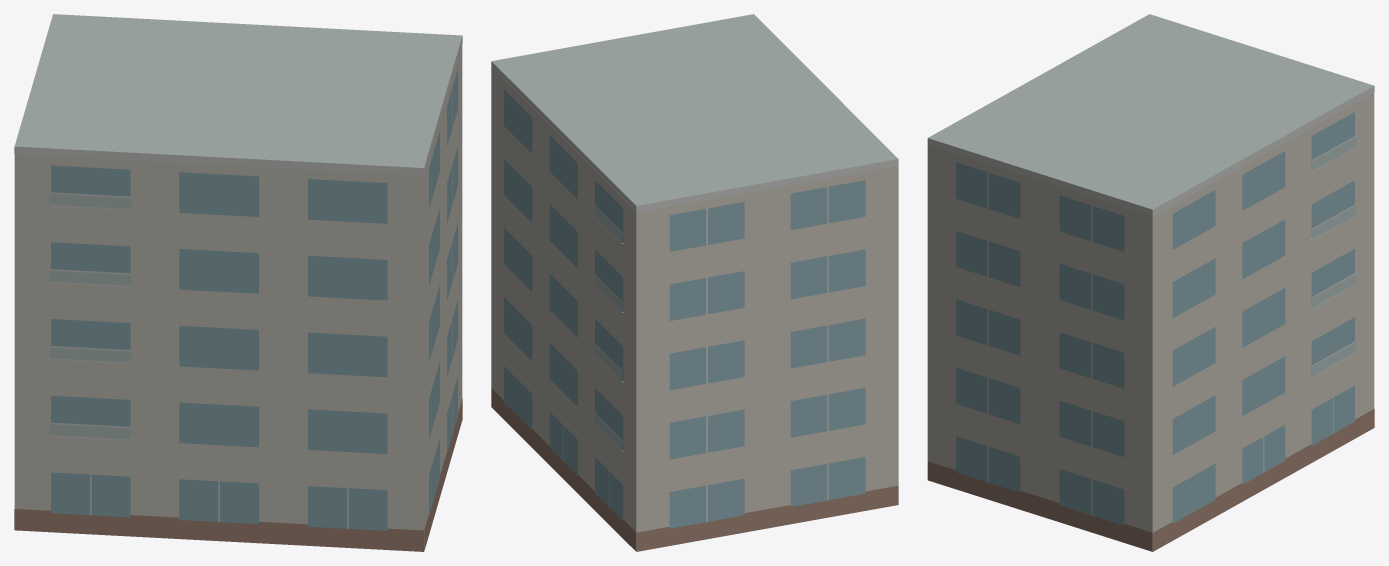
Rendered from survey-upis-32846915.glb.
3 views of the same model, side by side, from view 1: azimuth 30°, elevation 25°; view 2: azimuth 150°, elevation 25°; view 3: azimuth 270°, elevation 25° (orthographic). The views are drawn at different scales.
Parts seen in each view (by area): view 1: survey-upis-32846915.tmp; view 2: survey-upis-32846915.tmp; view 3: survey-upis-32846915.tmp.
Part boxes in pixels (left/top/right/bottom): survey-upis-32846915.tmp: left=14, top=14, right=462, bottom=551; survey-upis-32846915.tmp: left=491, top=14, right=898, bottom=551; survey-upis-32846915.tmp: left=927, top=14, right=1374, bottom=551.
Bounding box in the file's own units: 15.01 × 12.23 × 14.48.
